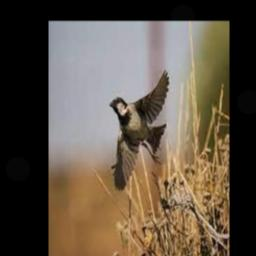Sparrow: (109, 69, 169, 190)
